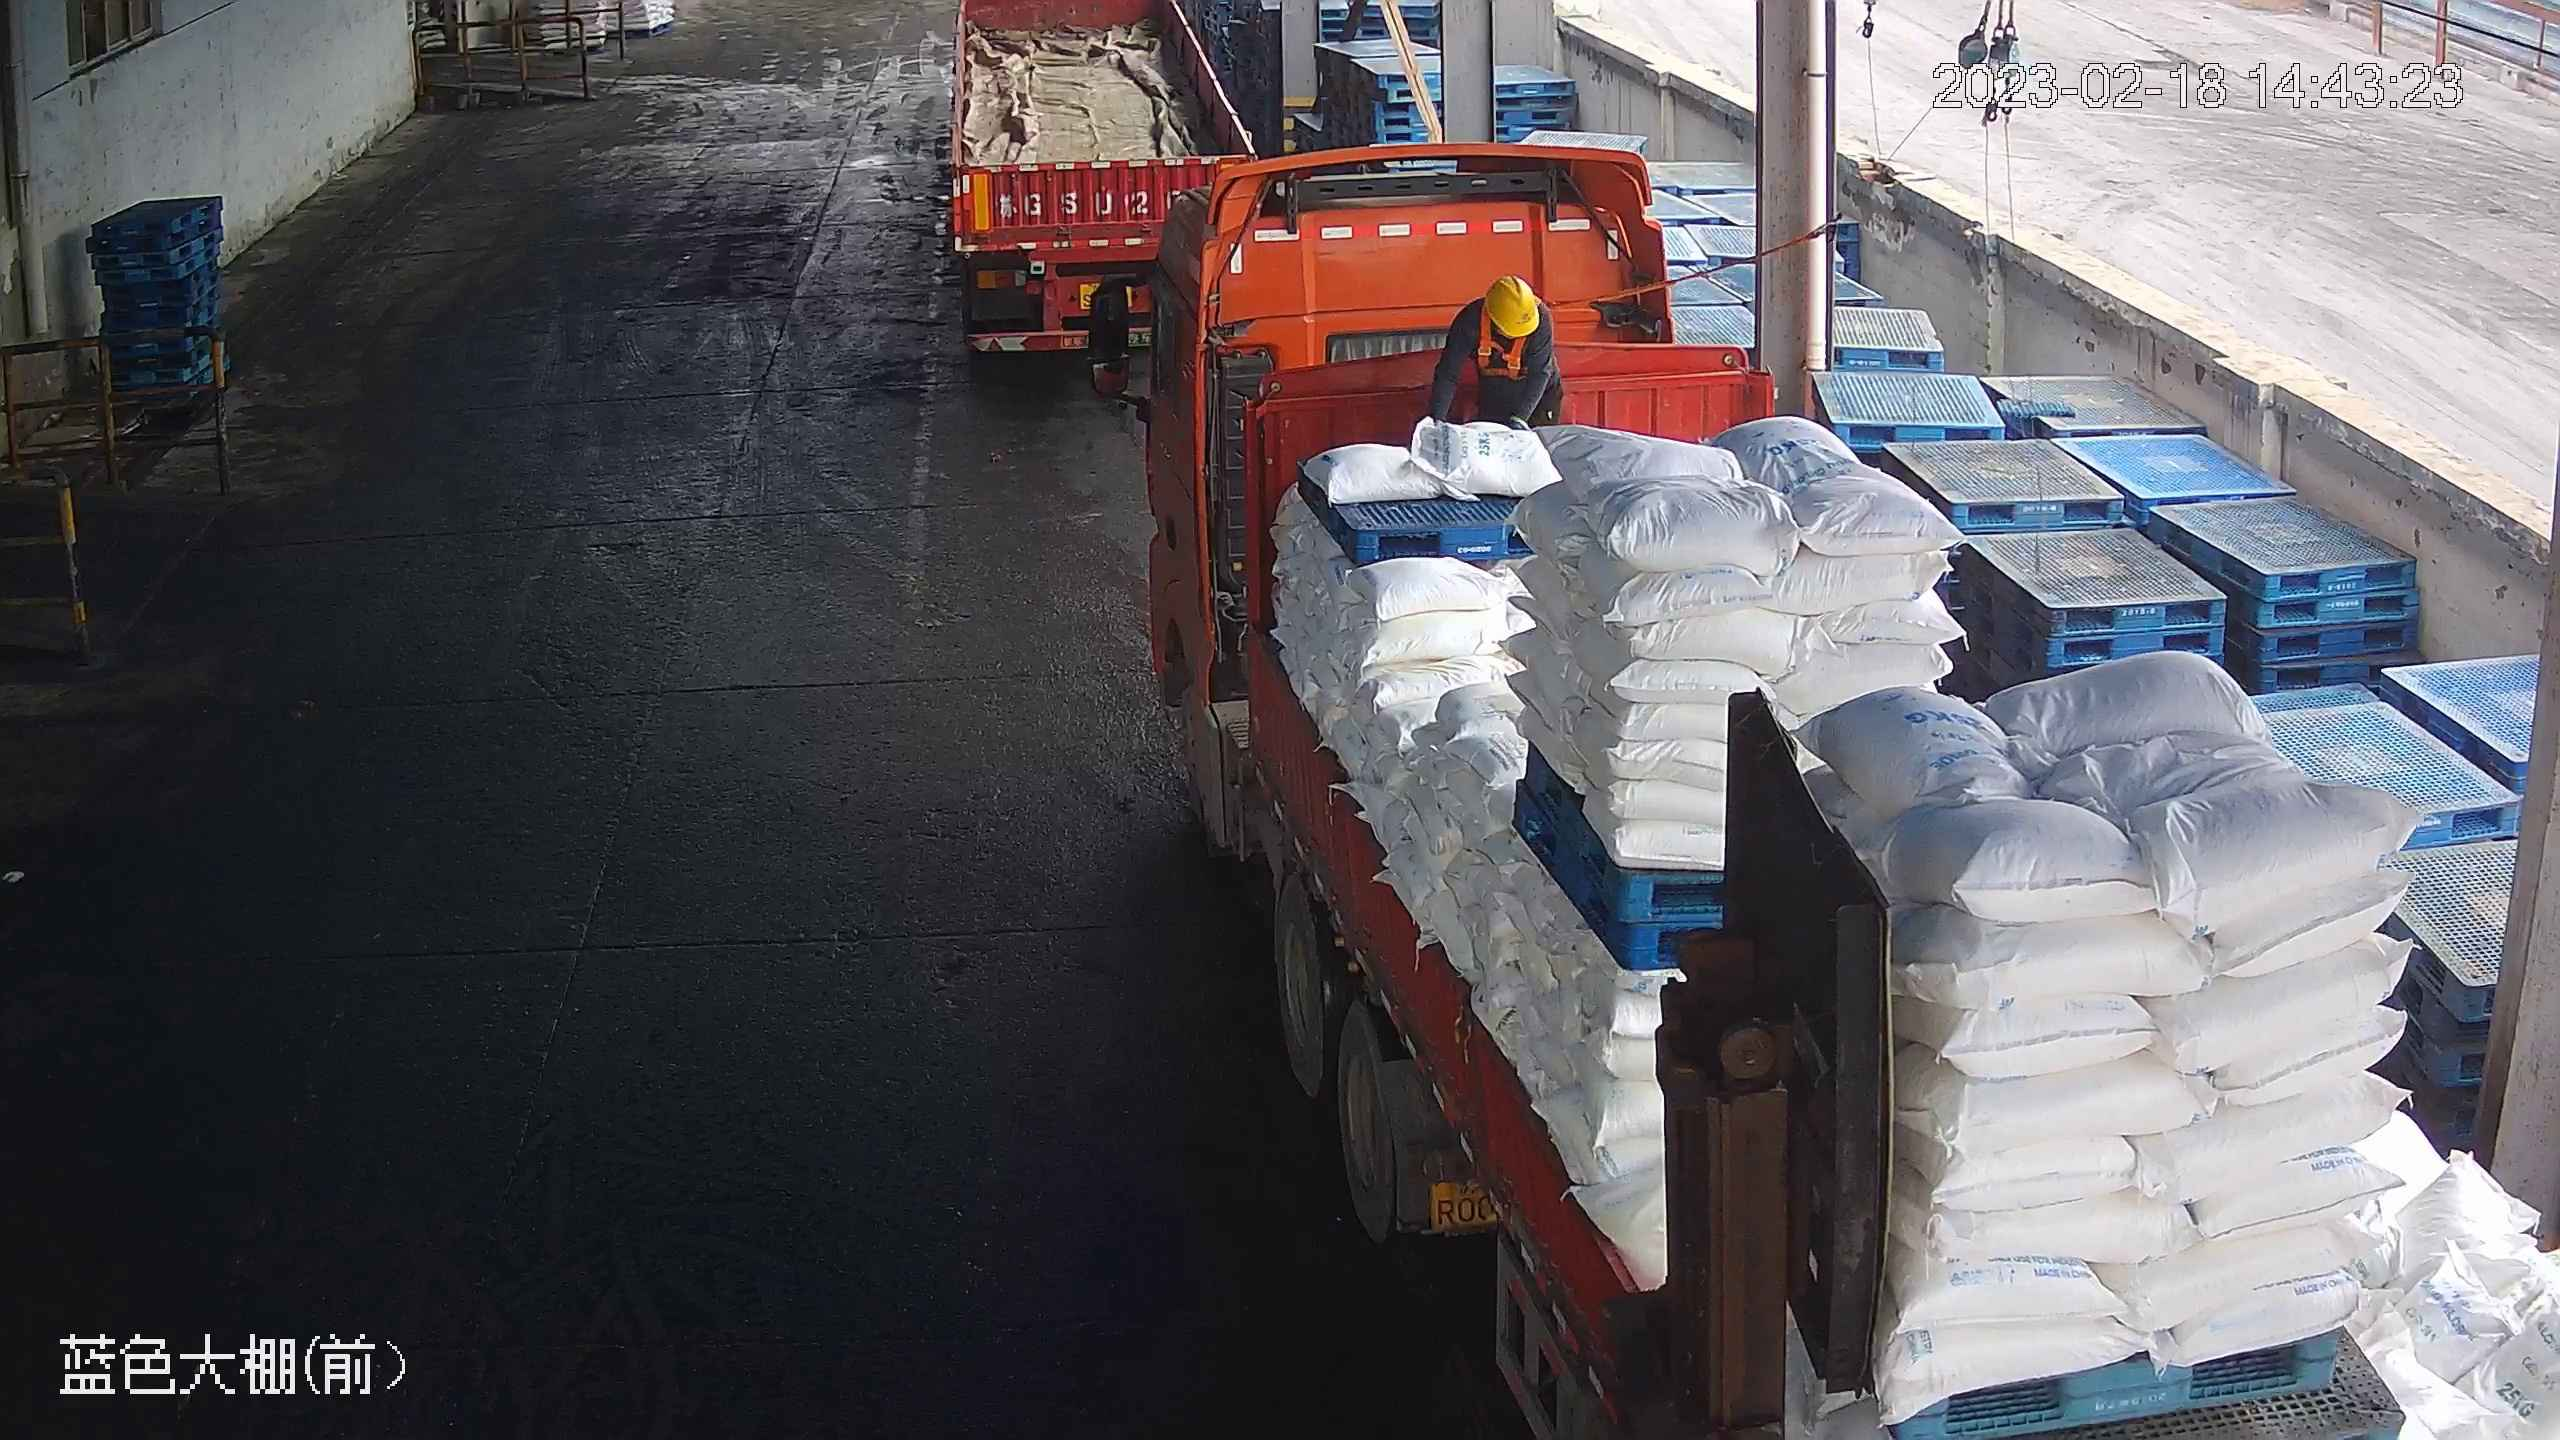belt: (1476, 303, 1529, 379)
head: (1452, 275, 1553, 363)
helmet: (1483, 272, 1541, 339)
people: (1422, 272, 1565, 436)
truck: (1087, 139, 2554, 1439), (945, 1, 1256, 354)
